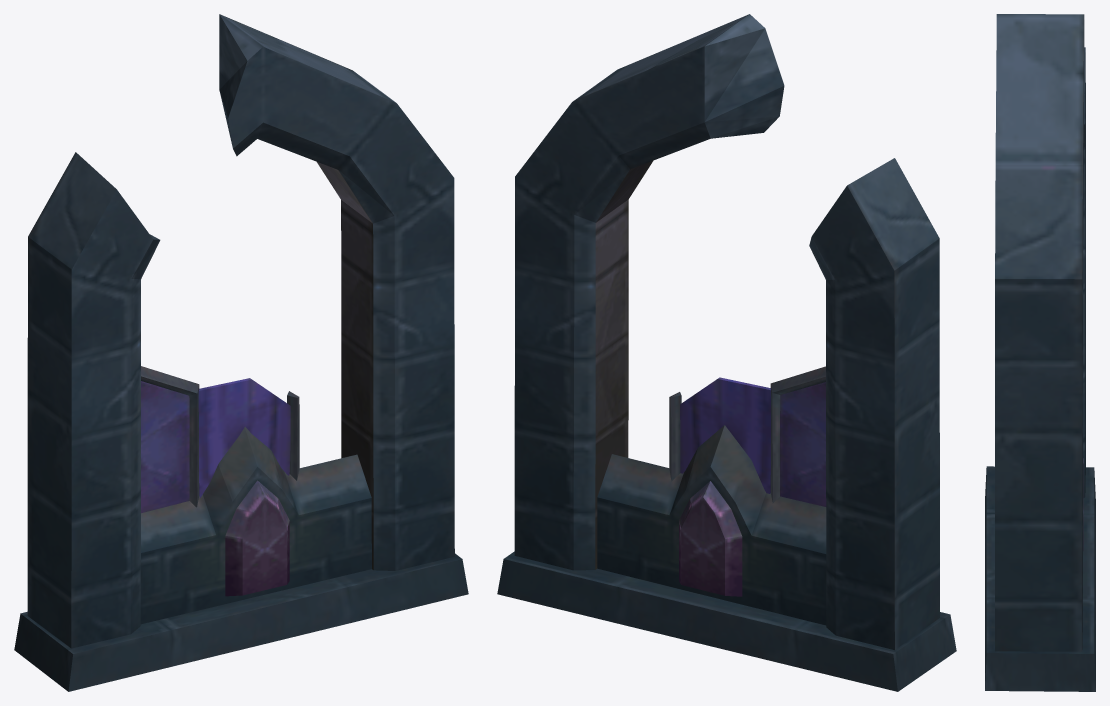
File: yw_bingyuan_pochuang_001.FBX
3 renders of one model, left to right at view 1: azimuth 30°, elevation 25°; view 2: azimuth 150°, elevation 25°; view 3: azimuth 270°, elevation 25°, orthographic.
Visible parts, largest first — view 1: yw_bingyuan_pochuang_001; view 2: yw_bingyuan_pochuang_001; view 3: yw_bingyuan_pochuang_001.
Boxes of the visible parts, box(x1,y1,x2,y2) form: yw_bingyuan_pochuang_001: box(14, 14, 468, 691); yw_bingyuan_pochuang_001: box(497, 14, 956, 691); yw_bingyuan_pochuang_001: box(985, 14, 1095, 691).
Size of the model in its own units: 6.42 by 1.56 by 9.02.
